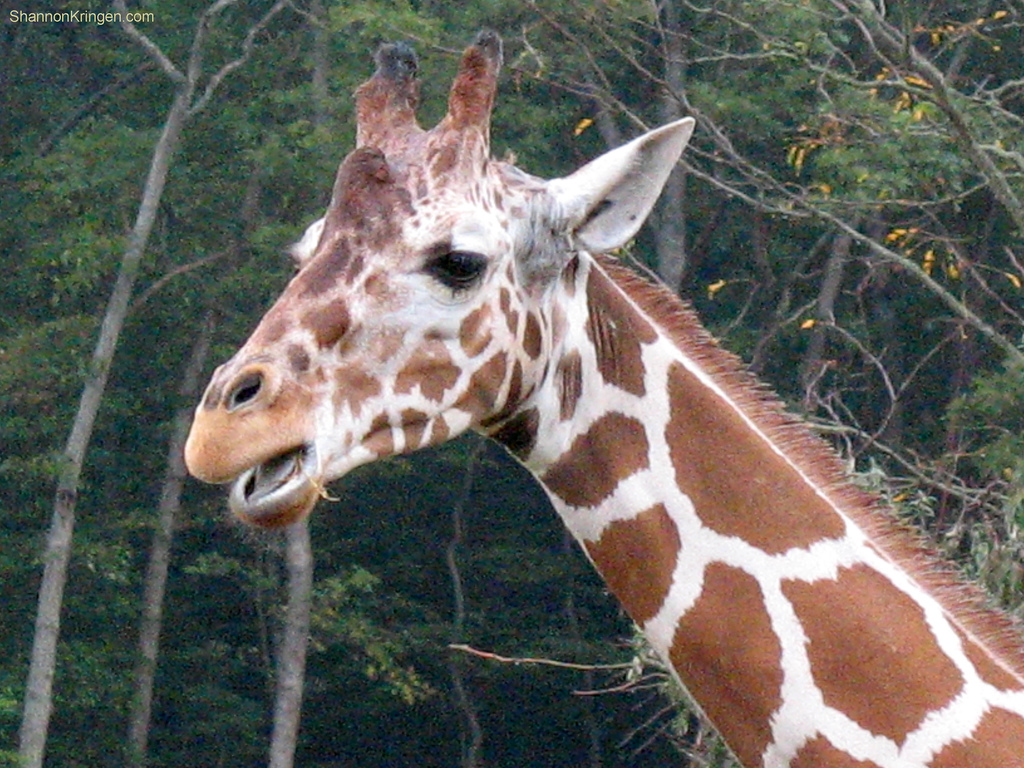giraffe: (166, 27, 985, 758)
